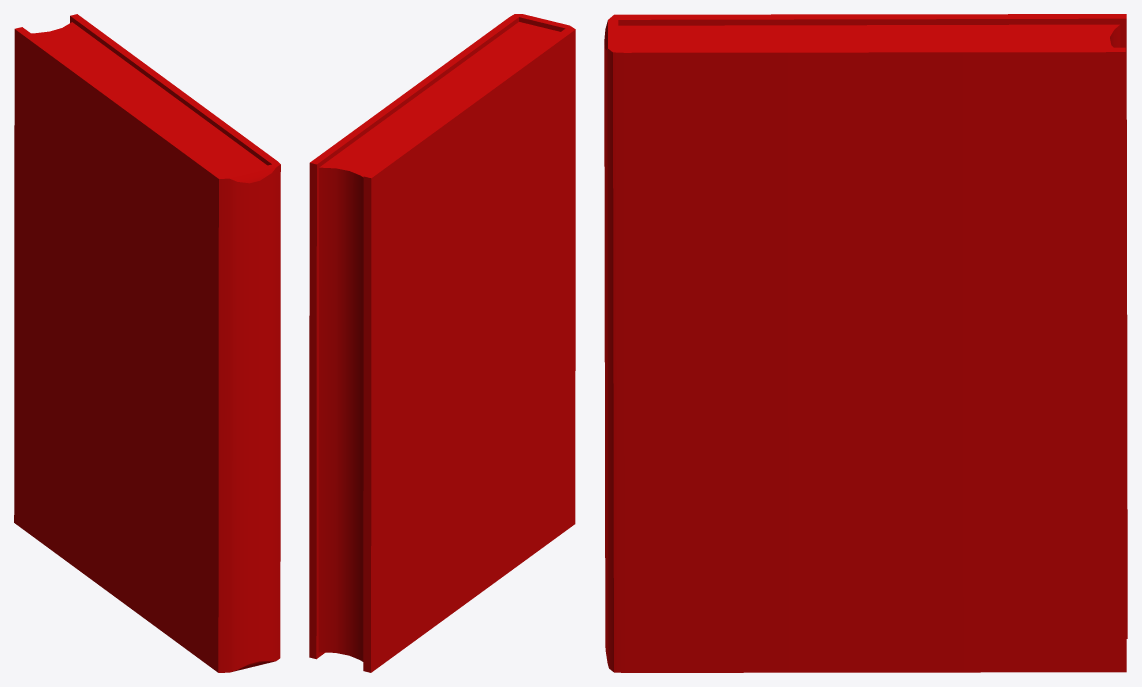
The model's file is Attic_Book_02_LP.glb.
3 renders of one model, left to right at view 1: azimuth 30°, elevation 25°; view 2: azimuth 150°, elevation 25°; view 3: azimuth 270°, elevation 25°, orthographic. The views are drawn at different scales.
Parts seen in each view (by area): view 1: Attic_Book_02_LP; view 2: Attic_Book_02_LP; view 3: Attic_Book_02_LP.
Boxes of the visible parts, bbox=[...] form: Attic_Book_02_LP: bbox=[14, 14, 280, 672]; Attic_Book_02_LP: bbox=[309, 14, 575, 672]; Attic_Book_02_LP: bbox=[604, 14, 1127, 672].
Bounding box in the file's own units: 0.0369 × 0.2804 × 0.2142.
